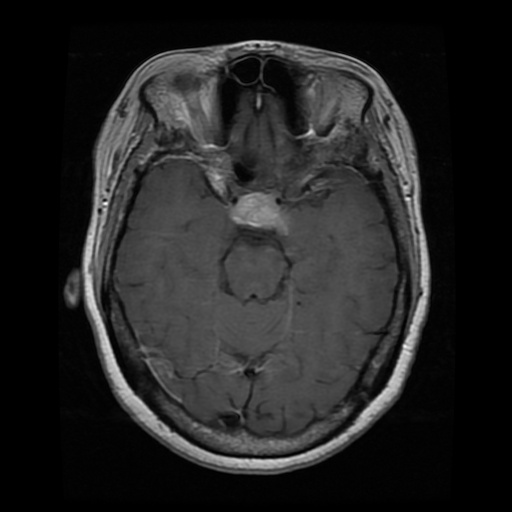pituitary: (231, 190, 281, 228)
